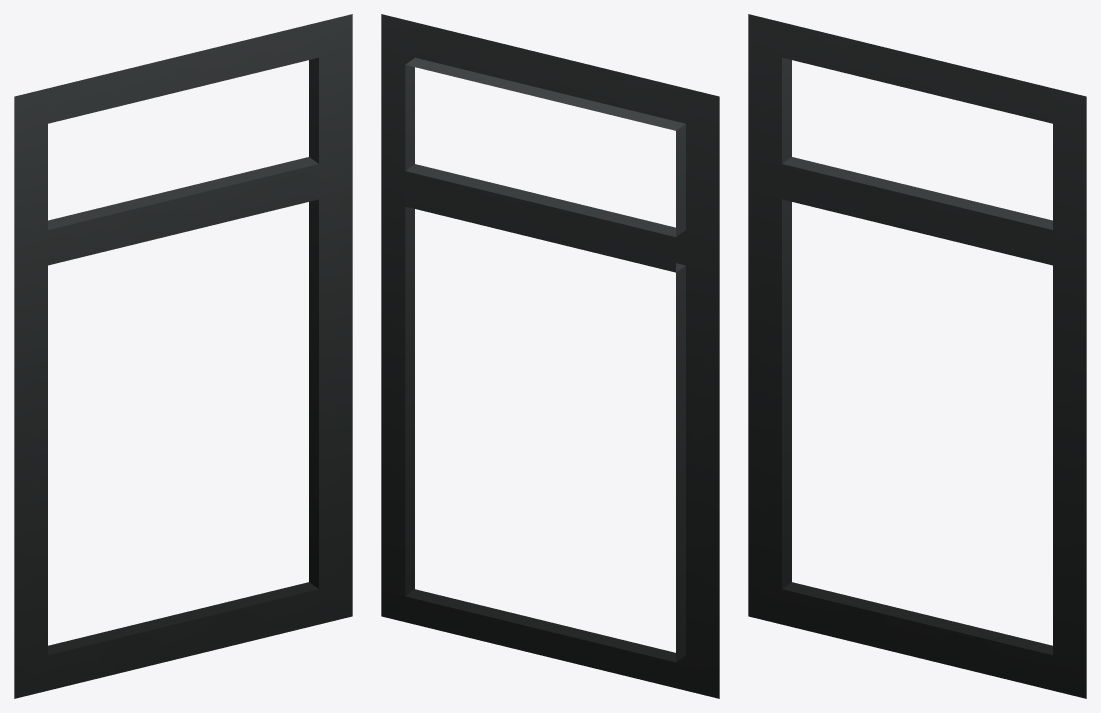
The model's file is Wall_3m_A_Window_A_Frame_C.fbx.
3 views of the same model, side by side, from view 1: azimuth 30°, elevation 25°; view 2: azimuth 150°, elevation 25°; view 3: azimuth 330°, elevation 25° (orthographic).
Visible parts, largest first — view 1: Wall_3m_A_Window_A_Frame_C; view 2: Wall_3m_A_Window_A_Frame_C; view 3: Wall_3m_A_Window_A_Frame_C.
Boxes of the visible parts, bbox=[...] form: Wall_3m_A_Window_A_Frame_C: bbox=[14, 14, 352, 698]; Wall_3m_A_Window_A_Frame_C: bbox=[381, 14, 719, 698]; Wall_3m_A_Window_A_Frame_C: bbox=[748, 14, 1086, 698].
Bounding box in the file's own units: 100 × 170 × 5.
